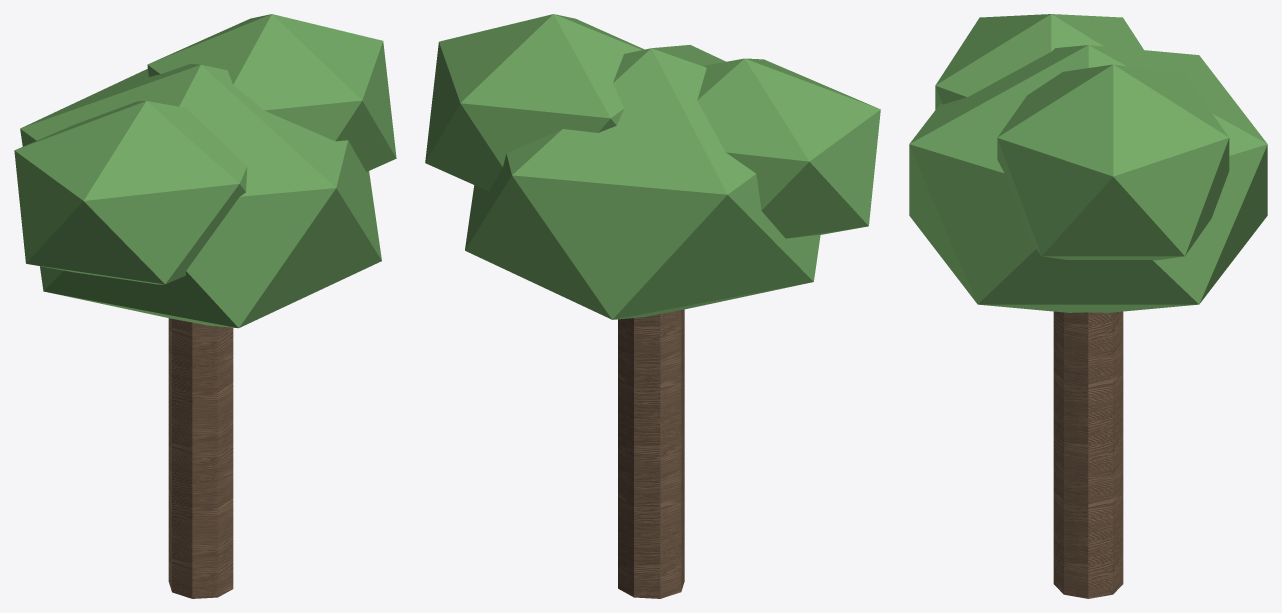
The model's file is town_tree.glb.
3 views of the same model, side by side, from view 1: azimuth 30°, elevation 25°; view 2: azimuth 150°, elevation 25°; view 3: azimuth 270°, elevation 25° (orthographic). The views are drawn at different scales.
Parts seen in each view (by area): view 1: town_tree; view 2: town_tree; view 3: town_tree.
Part boxes in pixels (x1=…): town_tree: x1=14, y1=14, x2=396, y2=598; town_tree: x1=425, y1=14, x2=880, y2=598; town_tree: x1=909, y1=14, x2=1267, y2=598.
Size of the model in its own units: 3.74 by 5 by 2.89.
Materials: 2 (1 with a texture image).
